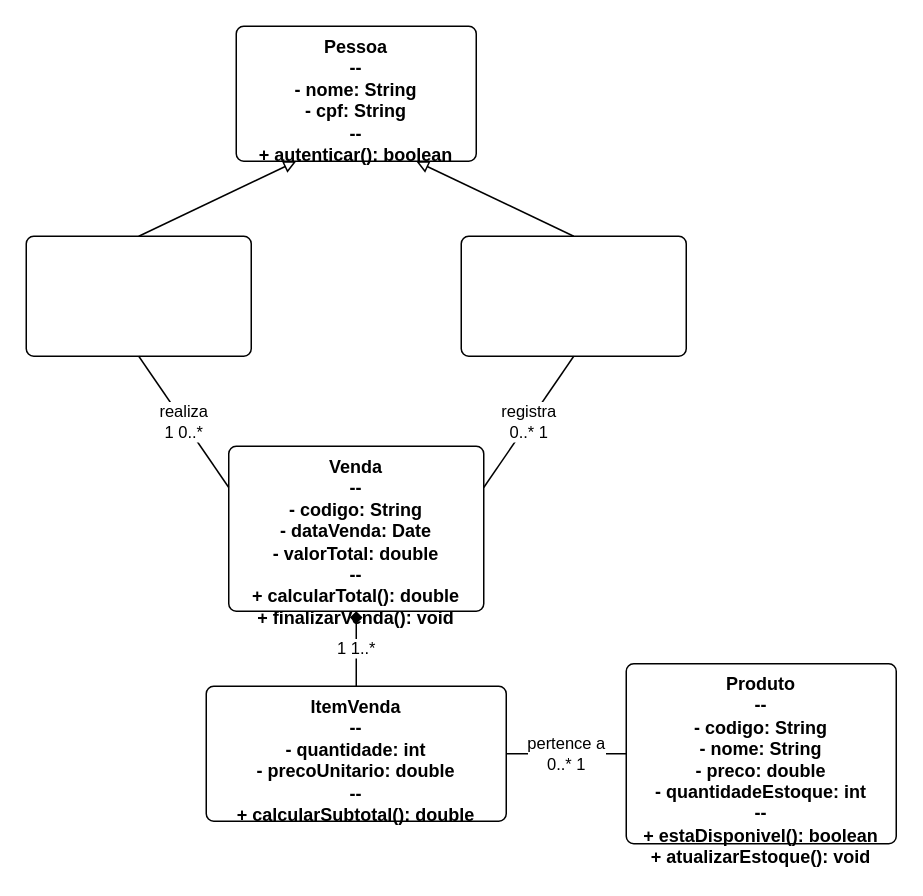
Some shapes in this 923 by 896 pixel diagram are drawn without their labels. The shapes that lost their labels are listed below. From the top down, each one's centre as x and y in pixels, then its label:
At point (138, 295): "Cliente -- - endereco: String -- + estaAtivo(): boolean".
At point (573, 295): "Vendedor -- - matricula: String --".
